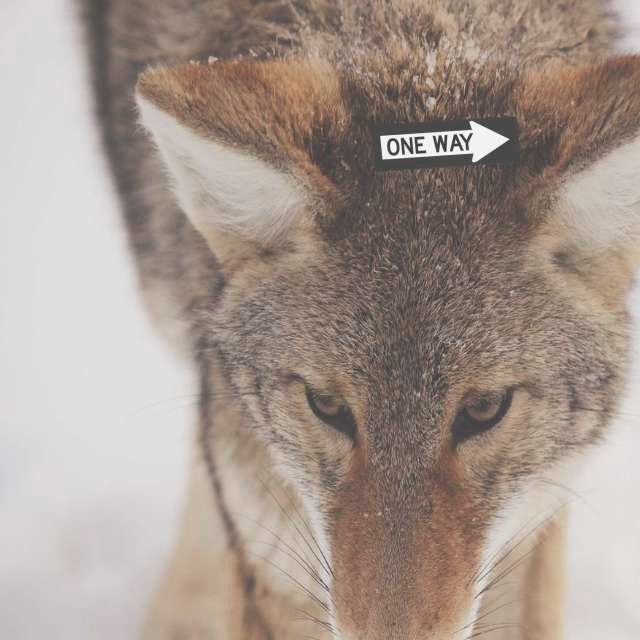ONE_WAY_ right: (370, 115, 521, 172)
